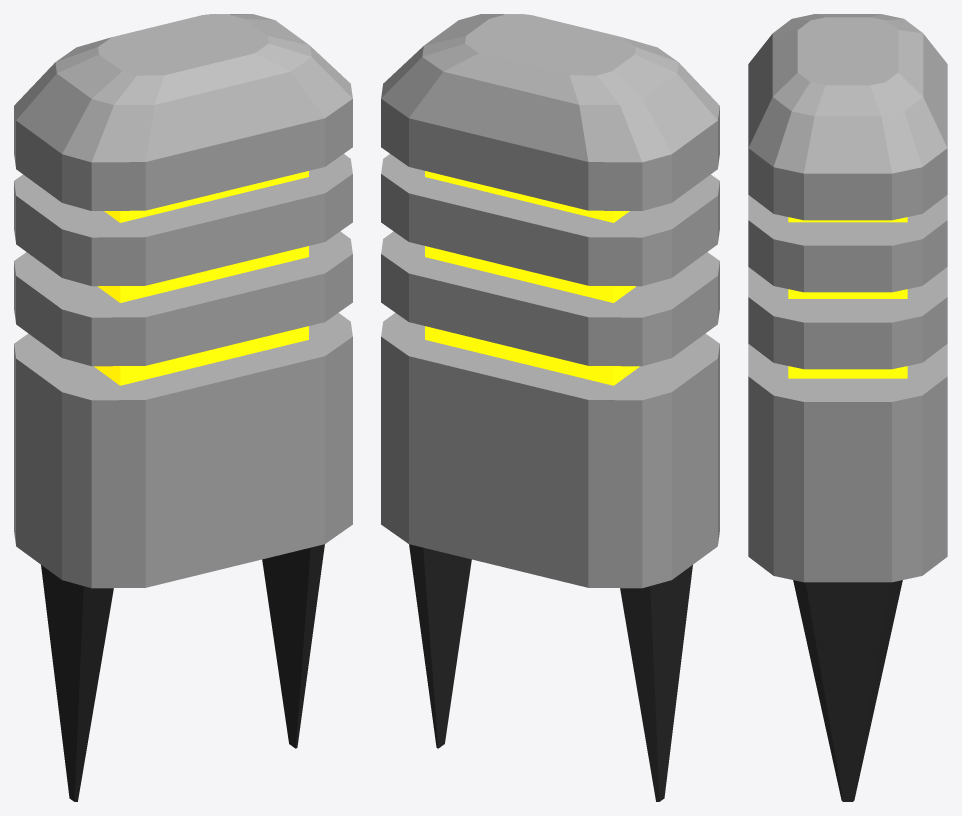
File: BillionvoltCapacitor.fbx
3 renders of one model, left to right at view 1: azimuth 30°, elevation 25°; view 2: azimuth 150°, elevation 25°; view 3: azimuth 270°, elevation 25°, orthographic. The views are drawn at different scales.
Parts seen in each view (by area): view 1: Casing, Core; view 2: Casing, Core; view 3: Casing, Core.
Part boxes in pixels (x1,y1,x2,y2): Casing: [14, 14, 352, 801]; Core: [94, 171, 308, 385]; Casing: [381, 14, 719, 801]; Core: [425, 171, 639, 385]; Casing: [748, 14, 947, 801]; Core: [788, 217, 907, 378].
Size of the model in its own units: 322 by 774 by 200.
